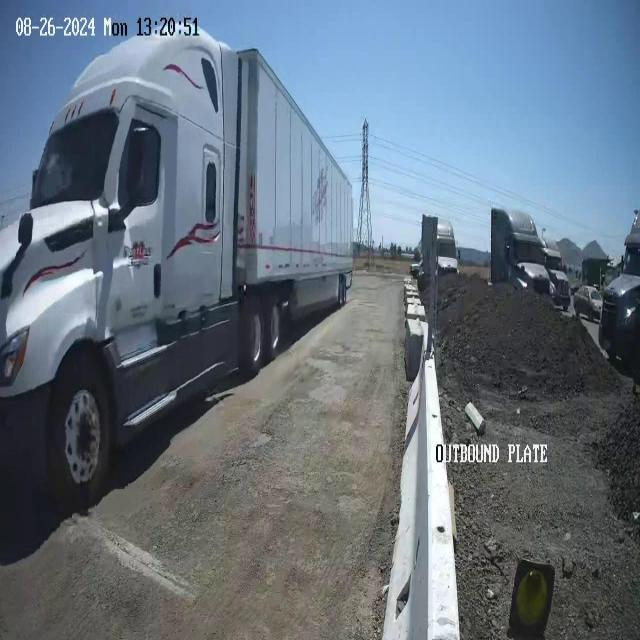CONTAINER: (235, 43, 357, 276)
